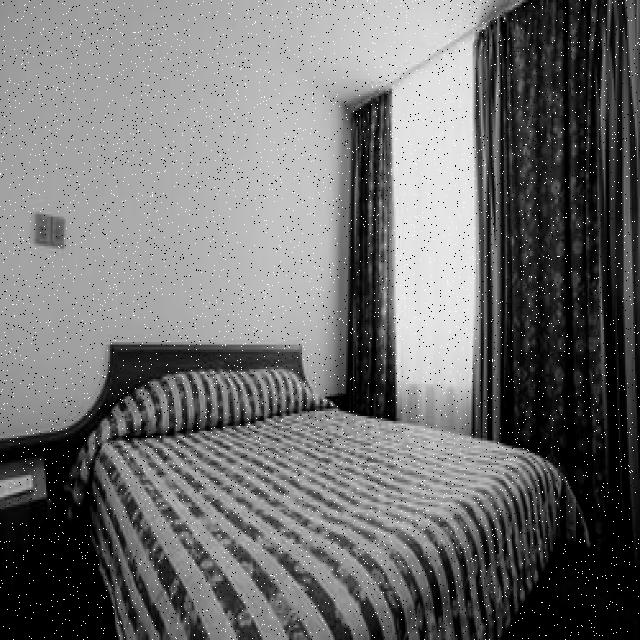bed: (65, 348, 570, 640)
